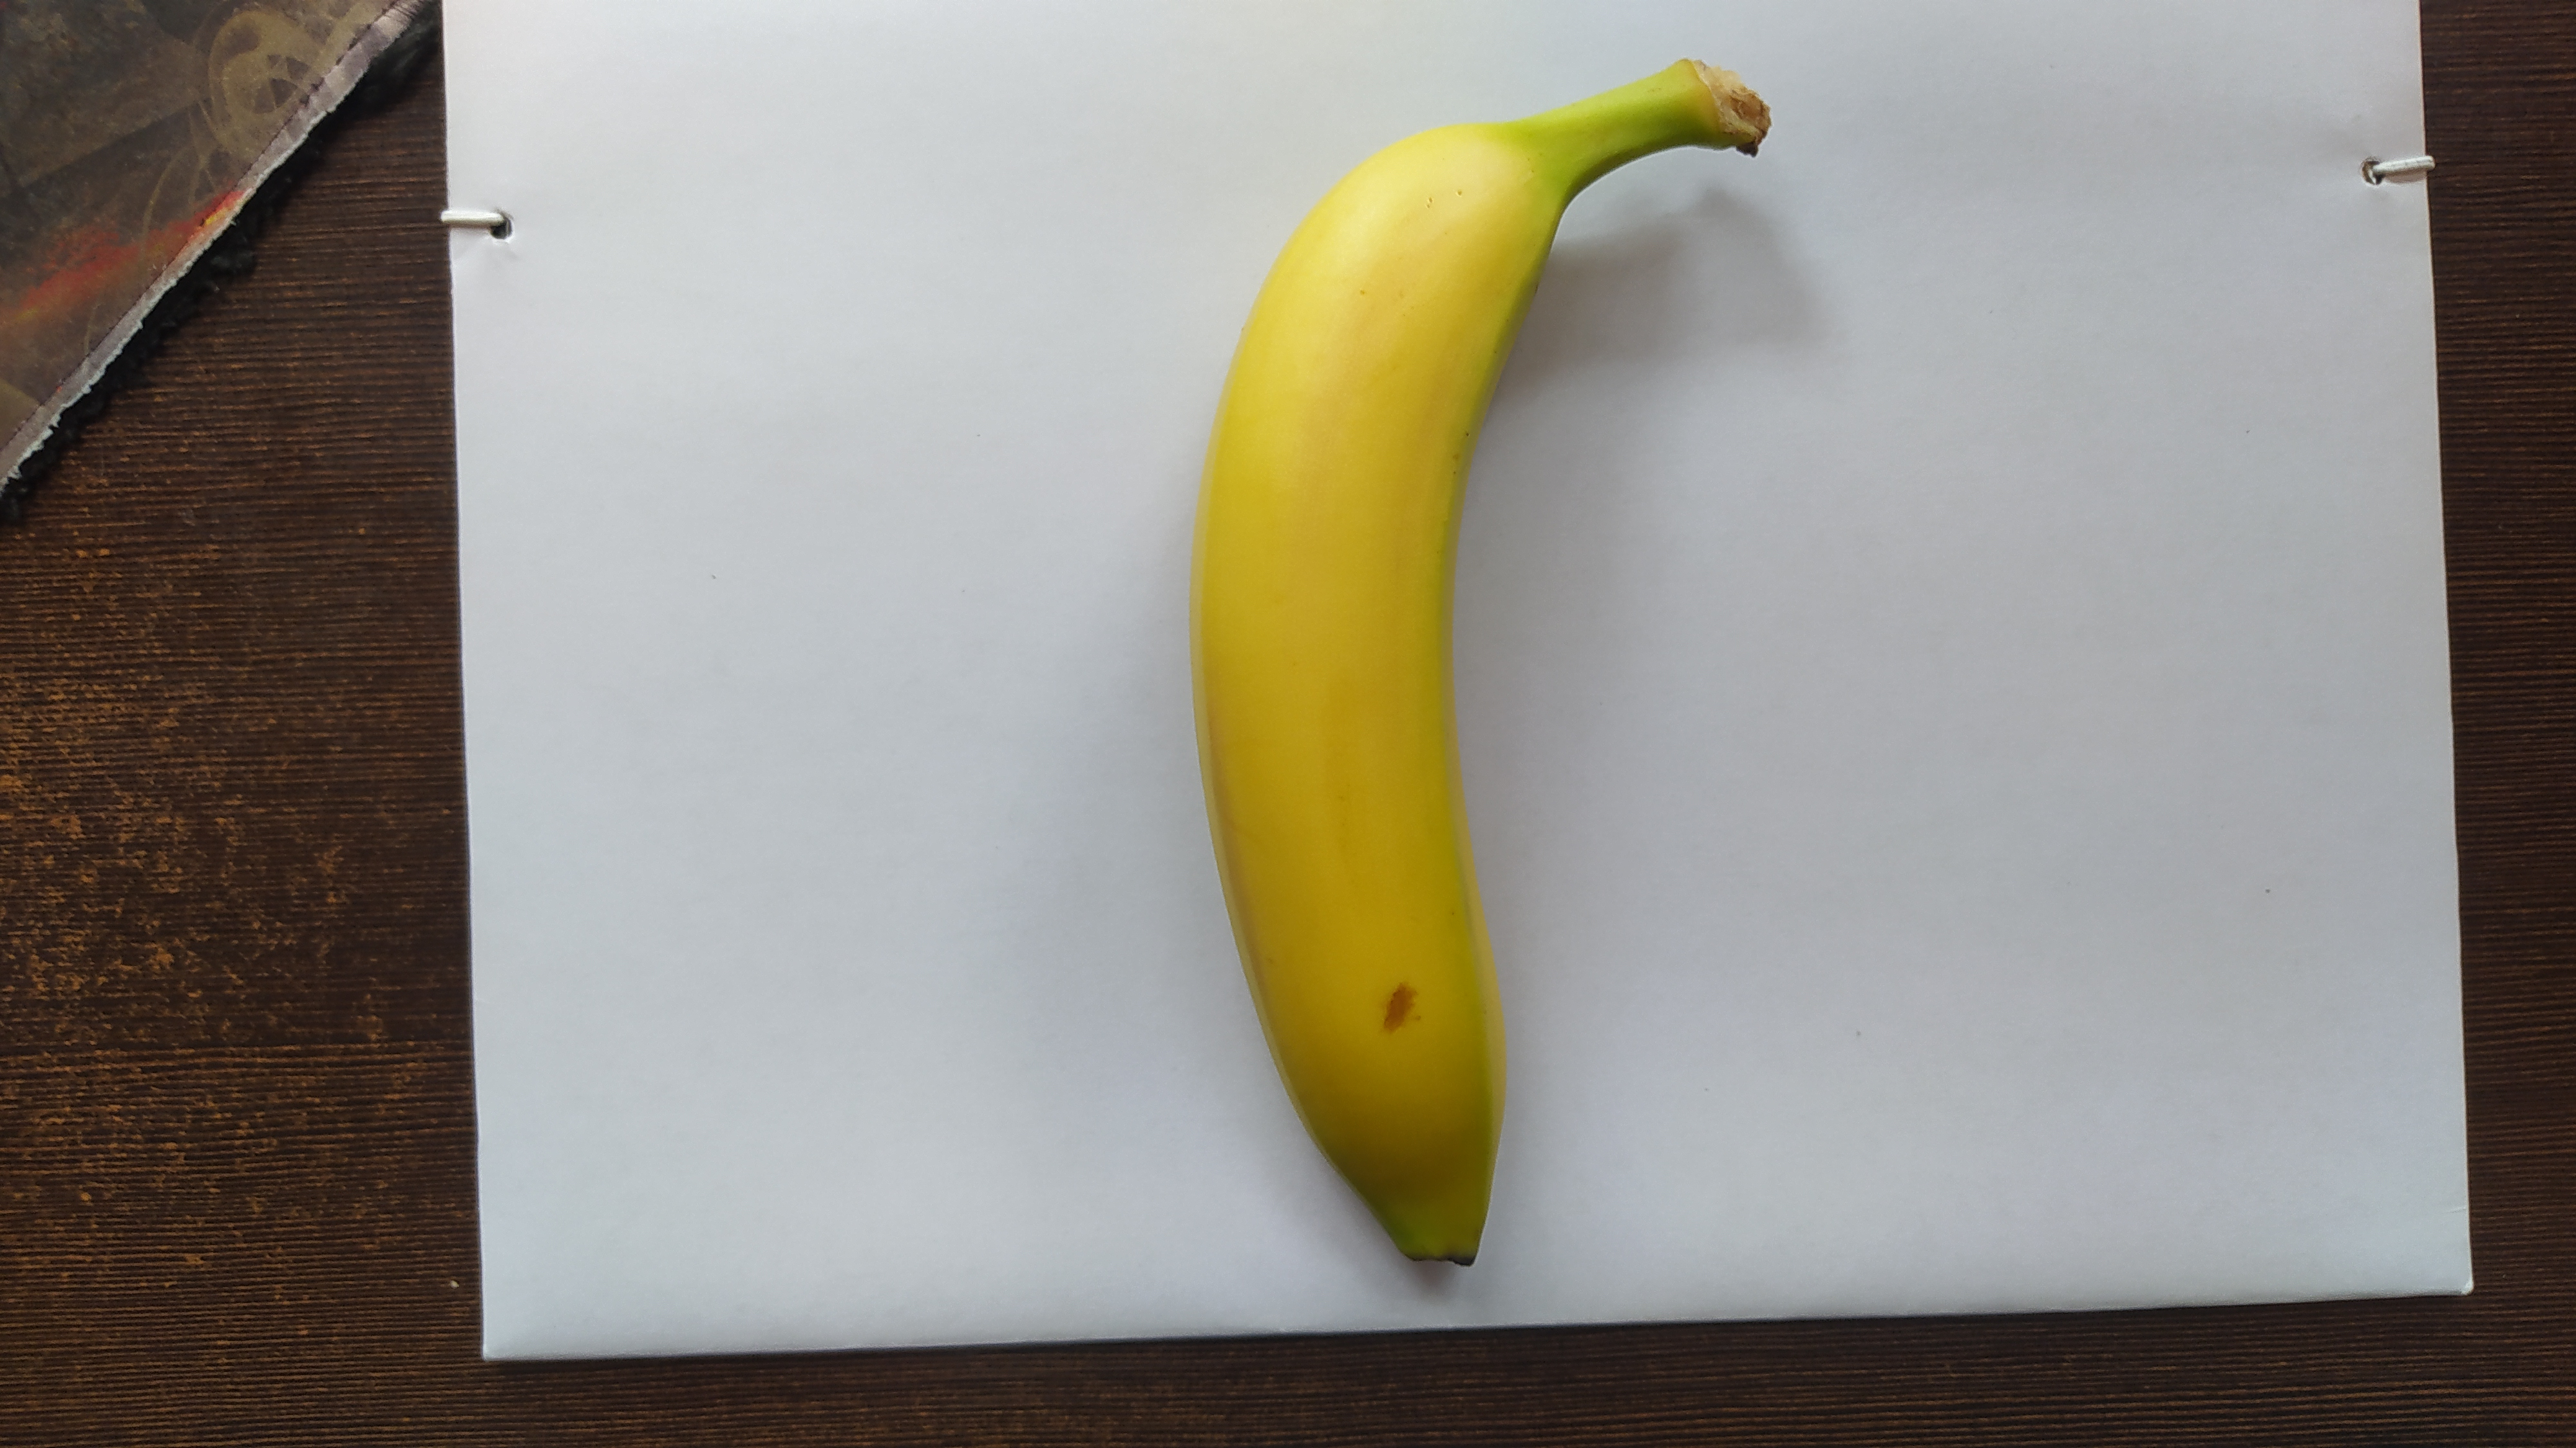banana: (1189, 57, 1771, 1273)
